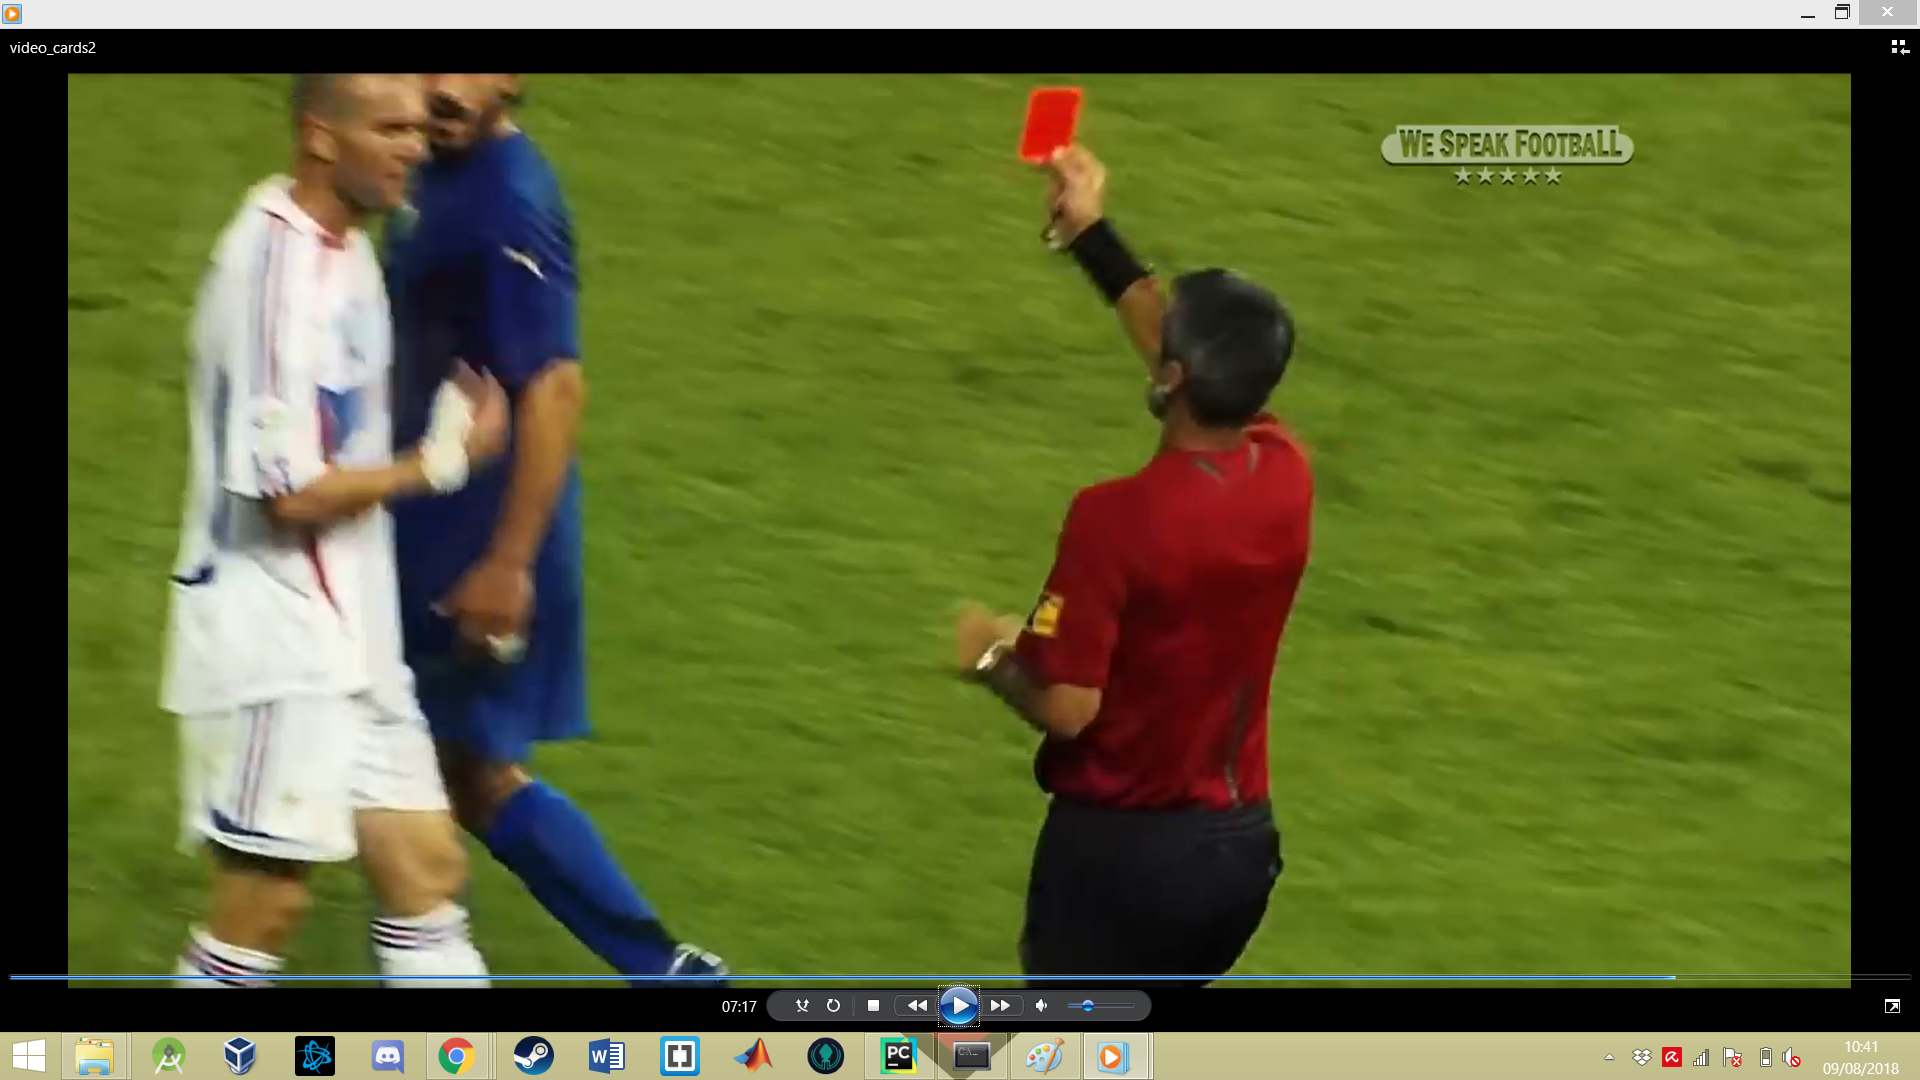red_card: (1007, 76, 1120, 229)
